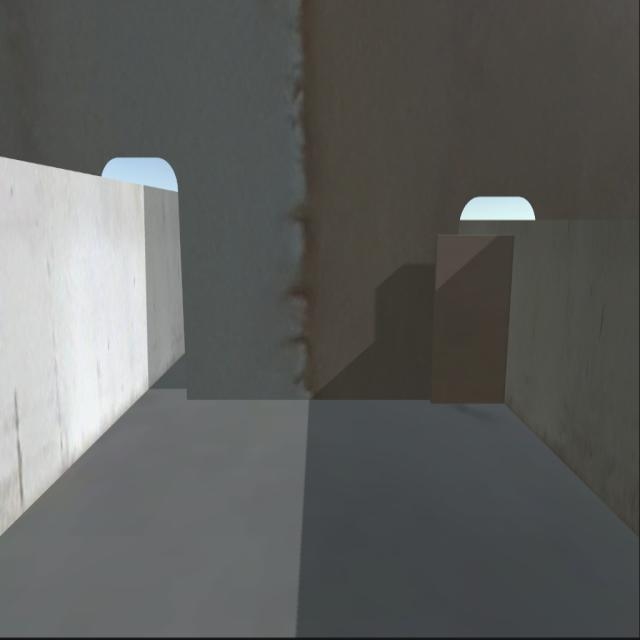fillet_yong_jeop_jang: (186, 388, 510, 409)
longi_yong_jeop_jang: (492, 235, 519, 408)
plate_CP01: (427, 229, 514, 404)
